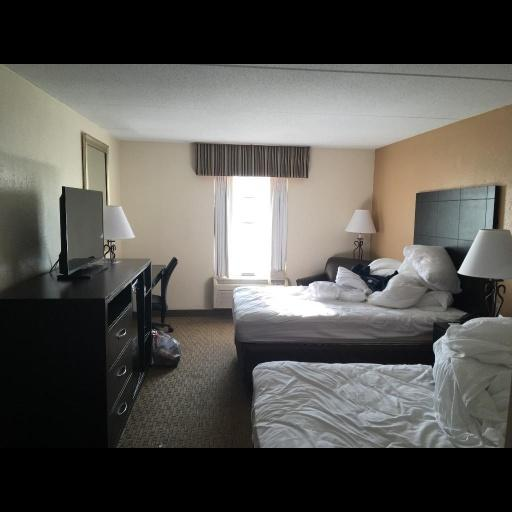chair: (155, 258, 180, 331)
lamp: (463, 226, 511, 319), (341, 208, 378, 262)
messy_bed: (236, 189, 498, 342), (247, 318, 509, 453)
organized table: (4, 255, 153, 452)
